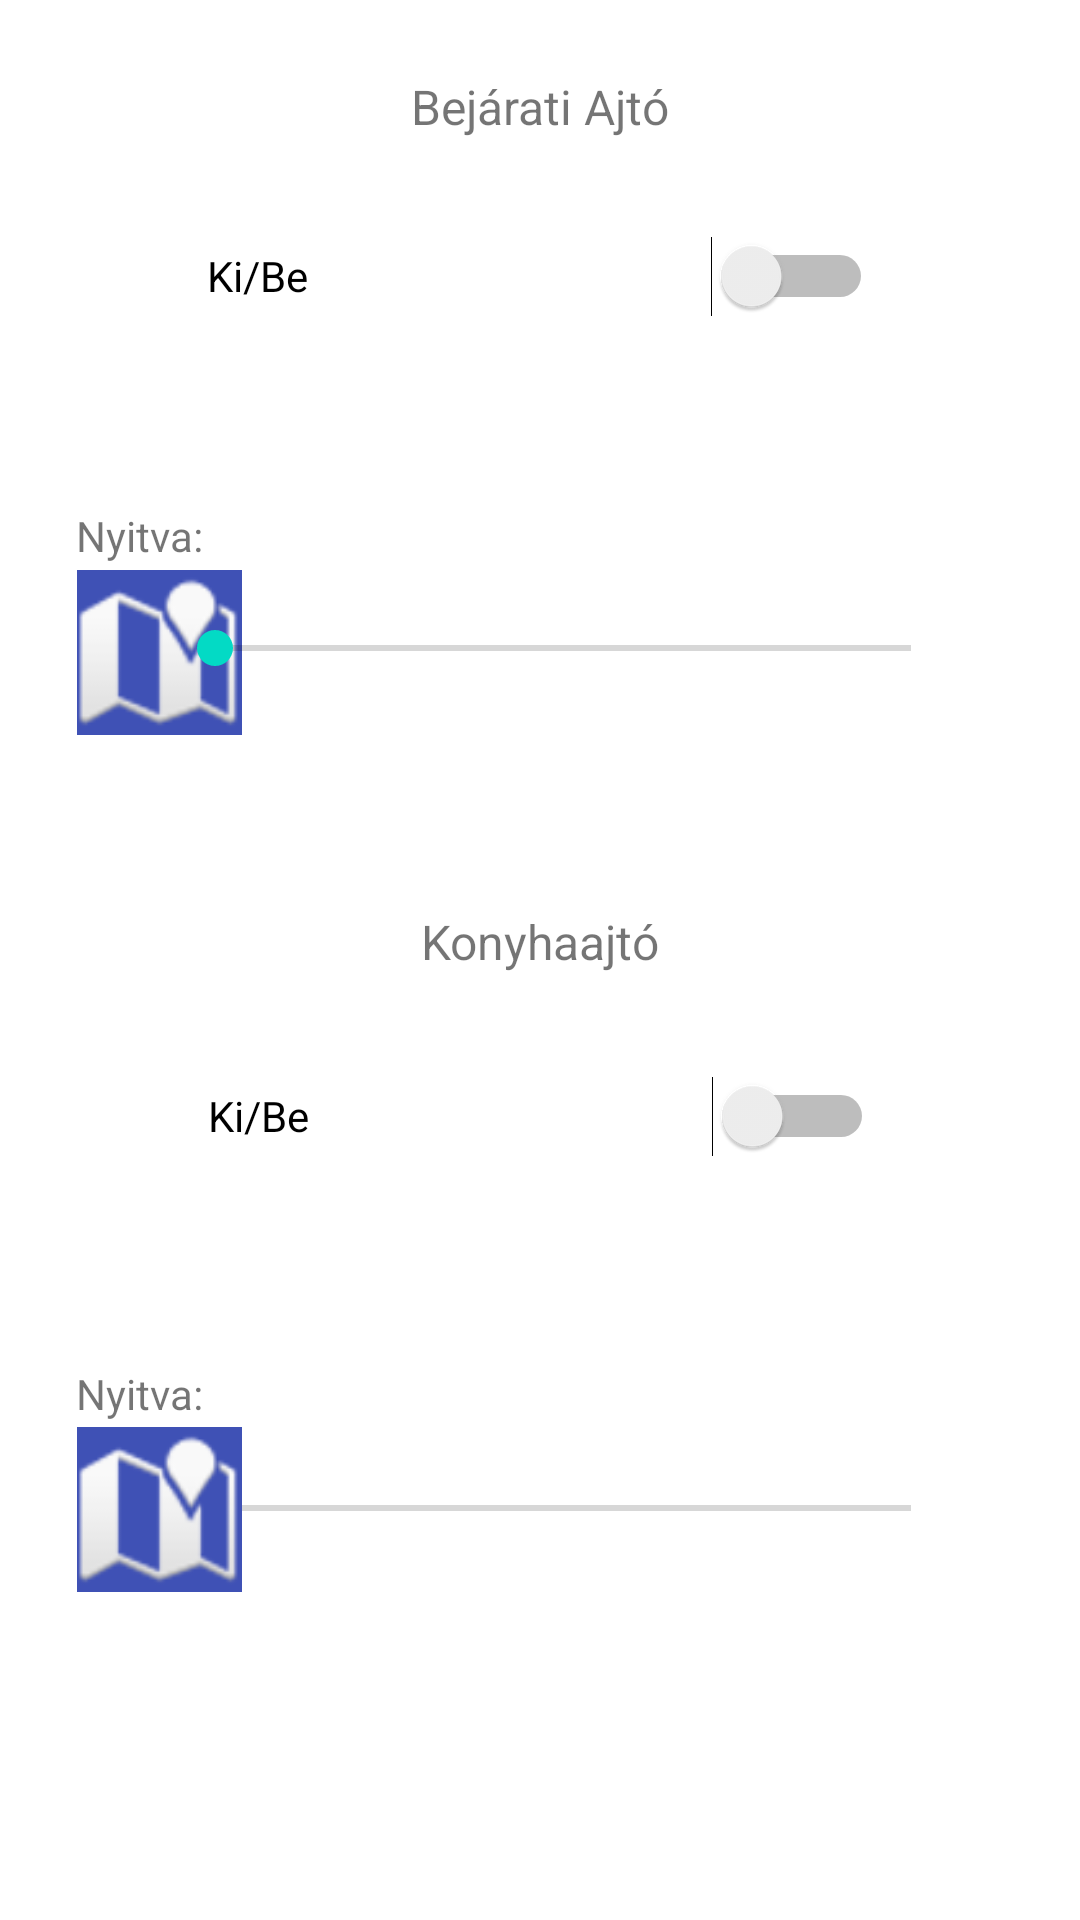

Icon bounding boxes for this 1080 × 1920 phone screenshot, format (x1=x1, y1=y1, x2=x2, y2=y2):
map: (x1=77, y1=570, x2=242, y2=735), (x1=77, y1=1427, x2=242, y2=1592)
